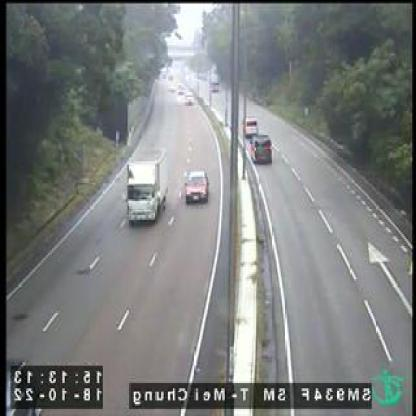Car: (184, 169, 209, 205), (251, 134, 273, 165), (244, 114, 258, 134)
Truck: (126, 147, 168, 227)
